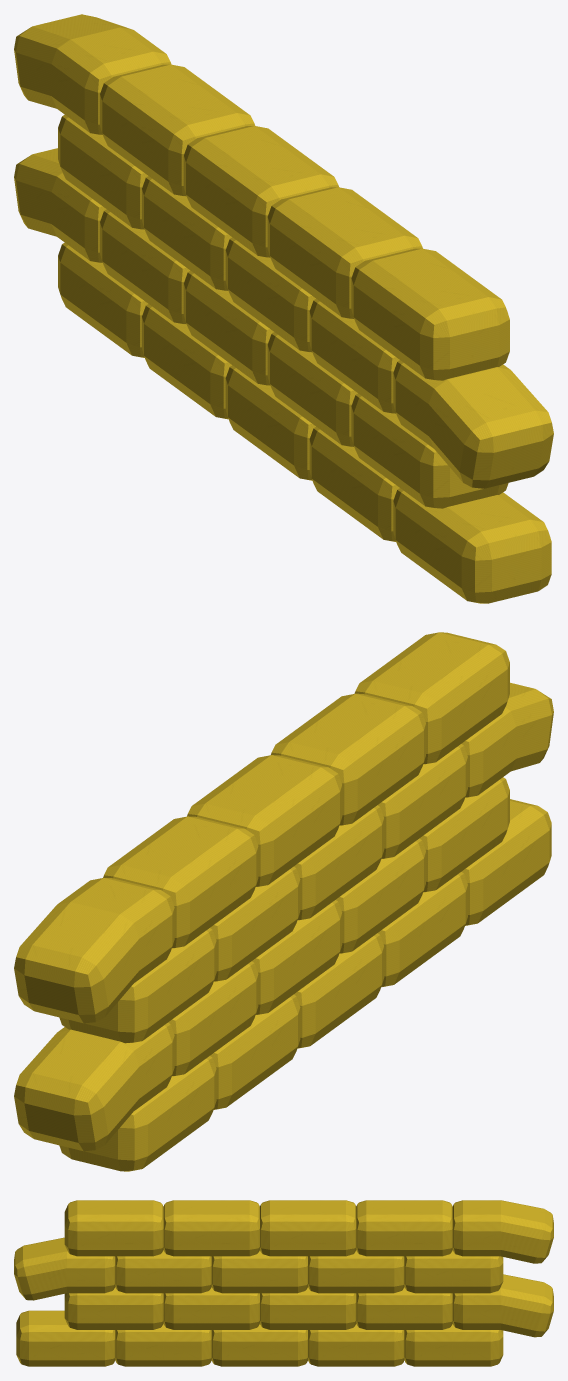
Rendered from Sandbag Block.fbx.
3 renders of one model, top to bottom at view 1: azimuth 30°, elevation 25°; view 2: azimuth 150°, elevation 25°; view 3: azimuth 270°, elevation 25°, orthographic. The views are drawn at different scales.
Parts seen in each view (by area): view 1: Sandbag Set; view 2: Sandbag Set; view 3: Sandbag Set.
Part boxes in pixels (x1,y1,x2,y2): Sandbag Set: (14, 14, 553, 603); Sandbag Set: (14, 632, 553, 1171); Sandbag Set: (14, 1200, 553, 1366).
Size of the model in its own units: 115 by 330 by 1064.
1 material, 1 textured.
